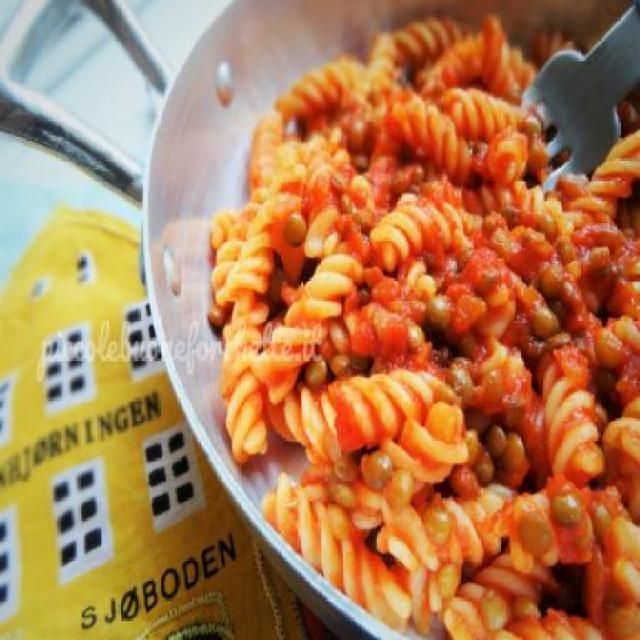Pasta al ragu: (206, 27, 628, 622)
